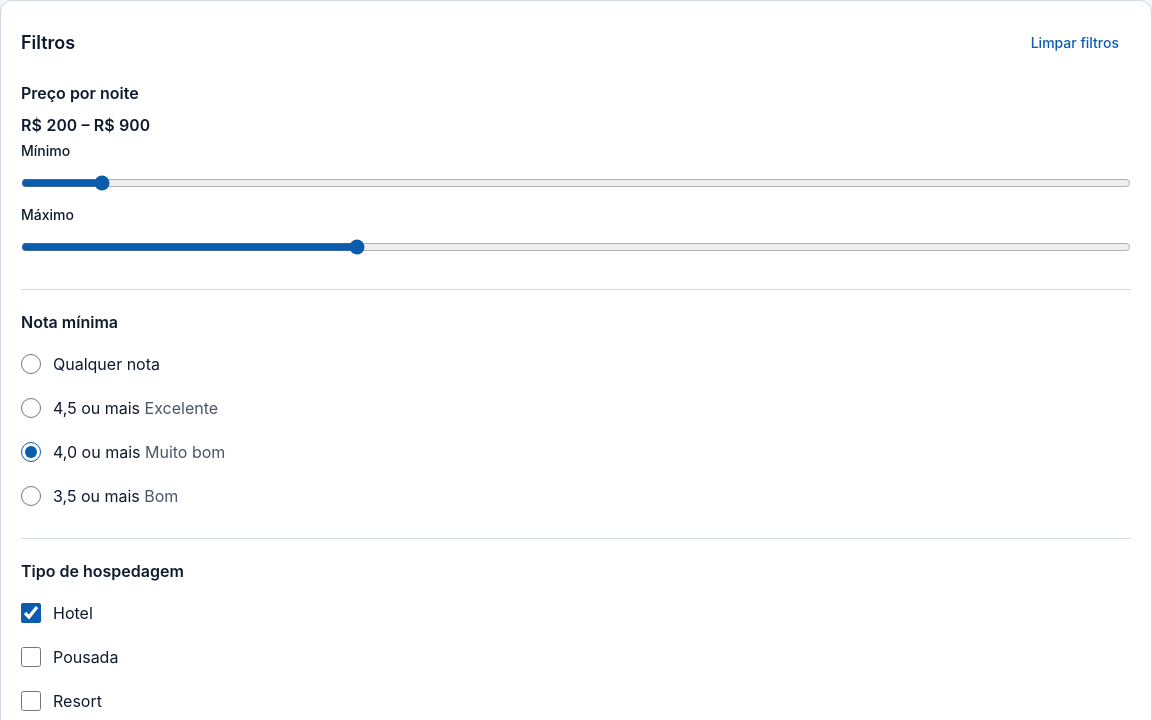
it: FiltersPanel: limpar filtros (critério 16) › zera tudo, mantém a ordenação, devolve os controles ao padrão e o foco fica no botão
Step 1. Click the button "Limpar filtros" → coordinates (1075, 43), box [1019, 21, 1131, 65]
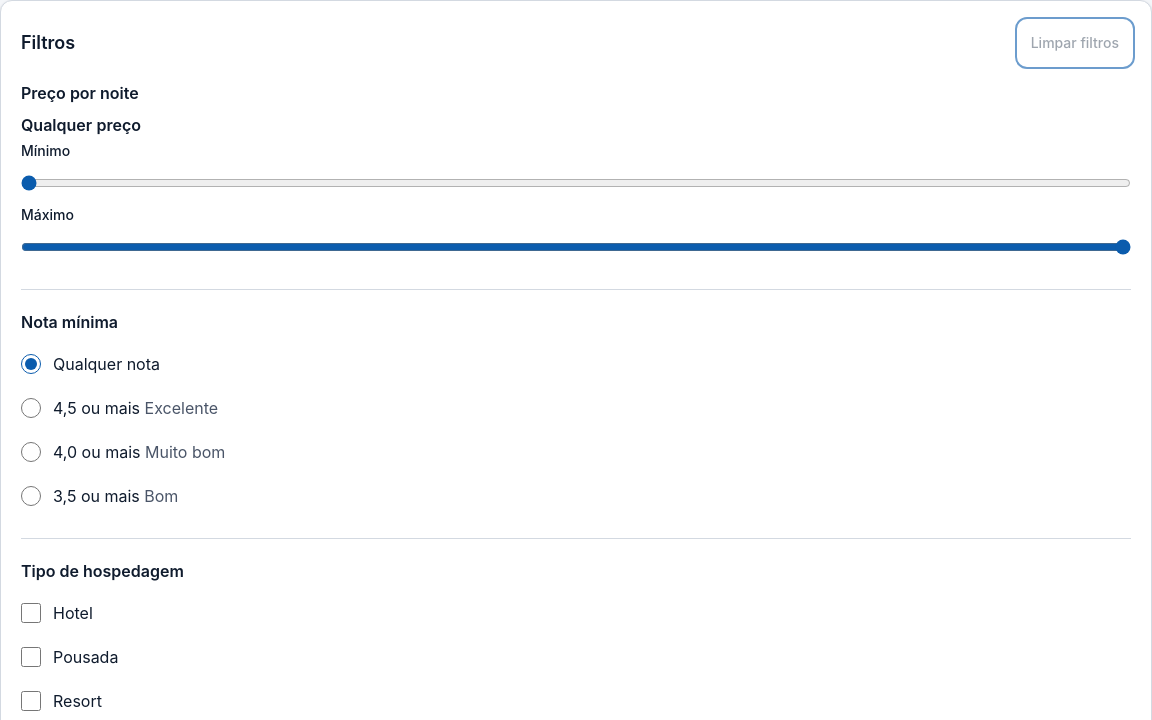
Expected: the slider labelled "Mínimo" holds "0", [21, 161, 1131, 205]
Expected: the slider labelled "Máximo" holds "3000", [21, 225, 1131, 269]
Expected: the text "Qualquer preço" is shown, [21, 115, 141, 135]
